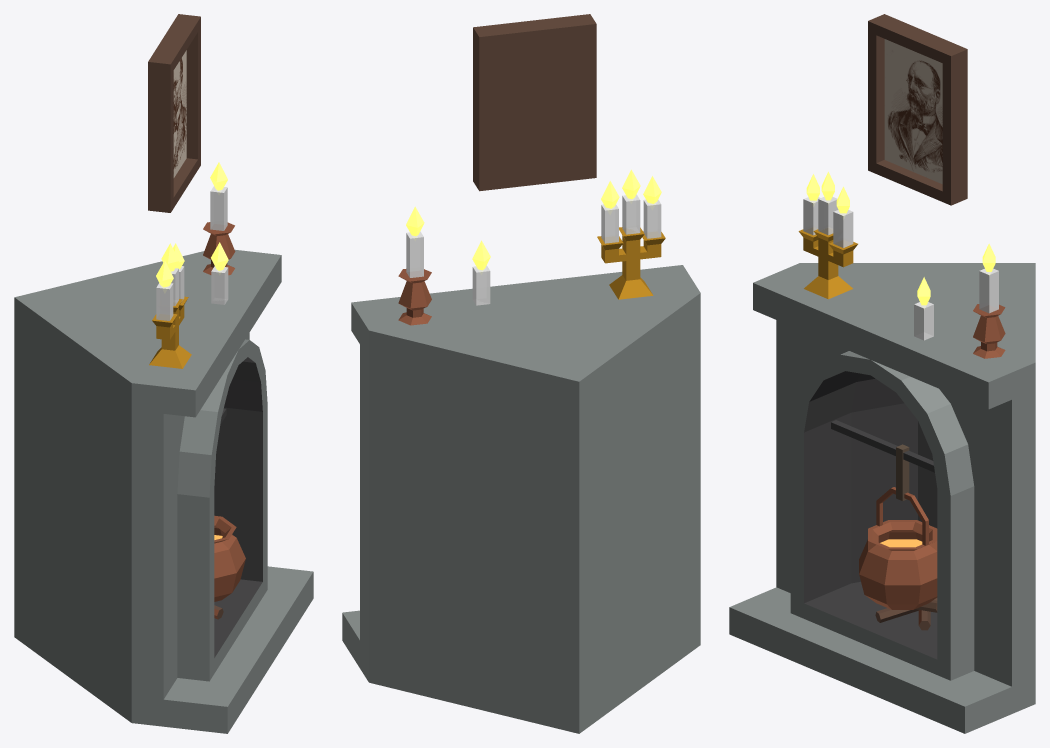
3 renders of one model, left to right at view 1: azimuth 30°, elevation 25°; view 2: azimuth 150°, elevation 25°; view 3: azimuth 270°, elevation 25°, orthographic. The views are drawn at different scales.
Visible parts, largest first — view 1: FirePlace_1.3x1.3x1.6_proxy.001_3, FirePlace_1.3x1.3x1.6_proxy.001_4, FirePlace_1.3x1.3x1.6_proxy.001_5, FirePlace_1.3x1.3x1.6_proxy.001_0, FirePlace_1.3x1.3x1.6_proxy.001_8, FirePlace_1.3x1.3x1.6_proxy.001_7, FirePlace_1.3x1.3x1.6_proxy.001_6, FirePlace_1.3x1.3x1.6_proxy.001_9; view 2: FirePlace_1.3x1.3x1.6_proxy.001_3, FirePlace_1.3x1.3x1.6_proxy.001_5, FirePlace_1.3x1.3x1.6_proxy.001_8, FirePlace_1.3x1.3x1.6_proxy.001_7, FirePlace_1.3x1.3x1.6_proxy.001_9, FirePlace_1.3x1.3x1.6_proxy.001_0; view 3: FirePlace_1.3x1.3x1.6_proxy.001_3, FirePlace_1.3x1.3x1.6_proxy.001_4, FirePlace_1.3x1.3x1.6_proxy.001_5, FirePlace_1.3x1.3x1.6_proxy.001_0, FirePlace_1.3x1.3x1.6_proxy.001_6, FirePlace_1.3x1.3x1.6_proxy.001_8, FirePlace_1.3x1.3x1.6_proxy.001_7, FirePlace_1.3x1.3x1.6_proxy.001_9, FirePlace_1.3x1.3x1.6_proxy.001_2.
Boxes of the visible parts, x1,y1,x2,y2 form: FirePlace_1.3x1.3x1.6_proxy.001_3: [14, 249, 313, 733]; FirePlace_1.3x1.3x1.6_proxy.001_4: [214, 357, 262, 657]; FirePlace_1.3x1.3x1.6_proxy.001_5: [148, 14, 223, 619]; FirePlace_1.3x1.3x1.6_proxy.001_0: [203, 222, 245, 619]; FirePlace_1.3x1.3x1.6_proxy.001_8: [156, 186, 228, 320]; FirePlace_1.3x1.3x1.6_proxy.001_7: [149, 296, 191, 368]; FirePlace_1.3x1.3x1.6_proxy.001_6: [173, 50, 186, 177]; FirePlace_1.3x1.3x1.6_proxy.001_9: [156, 162, 228, 287]; FirePlace_1.3x1.3x1.6_proxy.001_3: [342, 265, 700, 733]; FirePlace_1.3x1.3x1.6_proxy.001_5: [473, 14, 596, 191]; FirePlace_1.3x1.3x1.6_proxy.001_8: [406, 194, 661, 305]; FirePlace_1.3x1.3x1.6_proxy.001_7: [597, 227, 665, 299]; FirePlace_1.3x1.3x1.6_proxy.001_9: [406, 169, 661, 270]; FirePlace_1.3x1.3x1.6_proxy.001_0: [398, 269, 431, 325]; FirePlace_1.3x1.3x1.6_proxy.001_3: [729, 263, 1035, 733]; FirePlace_1.3x1.3x1.6_proxy.001_4: [804, 371, 937, 659]; FirePlace_1.3x1.3x1.6_proxy.001_5: [868, 14, 967, 630]; FirePlace_1.3x1.3x1.6_proxy.001_0: [859, 304, 1005, 624]; FirePlace_1.3x1.3x1.6_proxy.001_6: [884, 39, 942, 184]; FirePlace_1.3x1.3x1.6_proxy.001_8: [803, 197, 998, 340]; FirePlace_1.3x1.3x1.6_proxy.001_7: [798, 229, 857, 299]; FirePlace_1.3x1.3x1.6_proxy.001_9: [806, 171, 995, 305]; FirePlace_1.3x1.3x1.6_proxy.001_2: [896, 444, 909, 501].
Size of the model in its own units: 1.3 by 2.9 by 1.3.
Materials: 10 (1 with a texture image).
